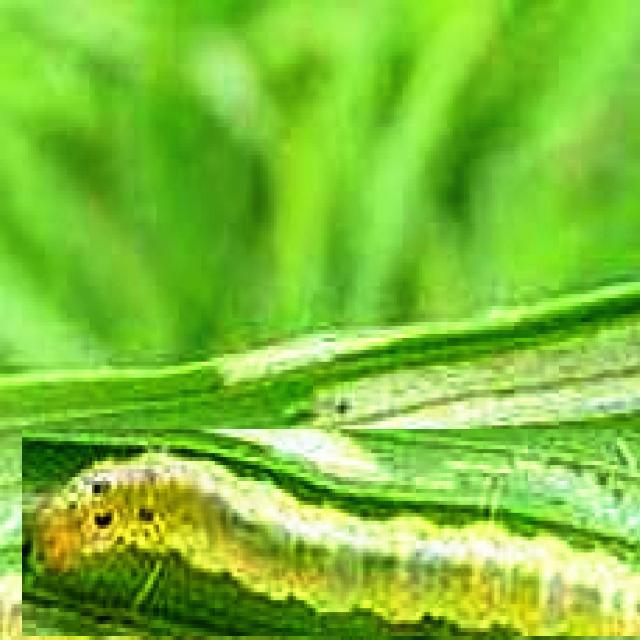leaf-folder: (22, 429, 640, 636)
